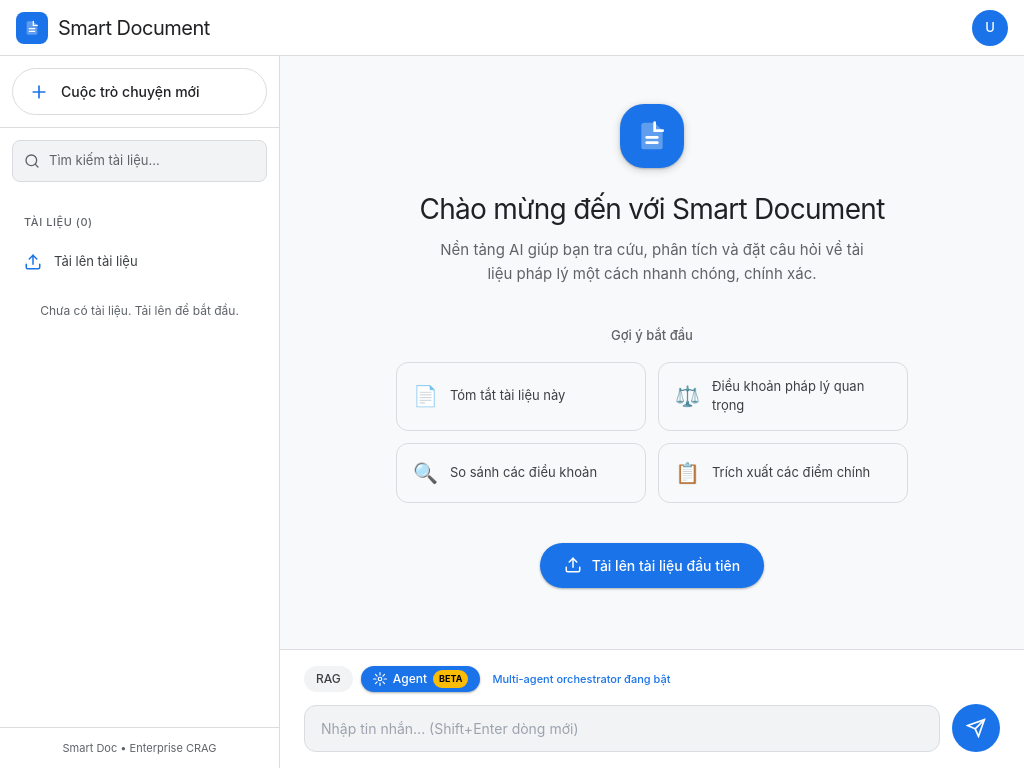
ChatPage › streams an SSE response and renders the final assistant message
Expected: the heading "Chào mừng đến với Smart Document" is shown, x1=419 y1=188 x2=885 y2=230
Type "What is the refund policy?" into the text box with placeholder "Nhập tin nhắn... (Shift+Enter dòng mới)".
click(622, 728); type("What is the refund policy?")  # box x1=304 y1=705 x2=940 y2=752
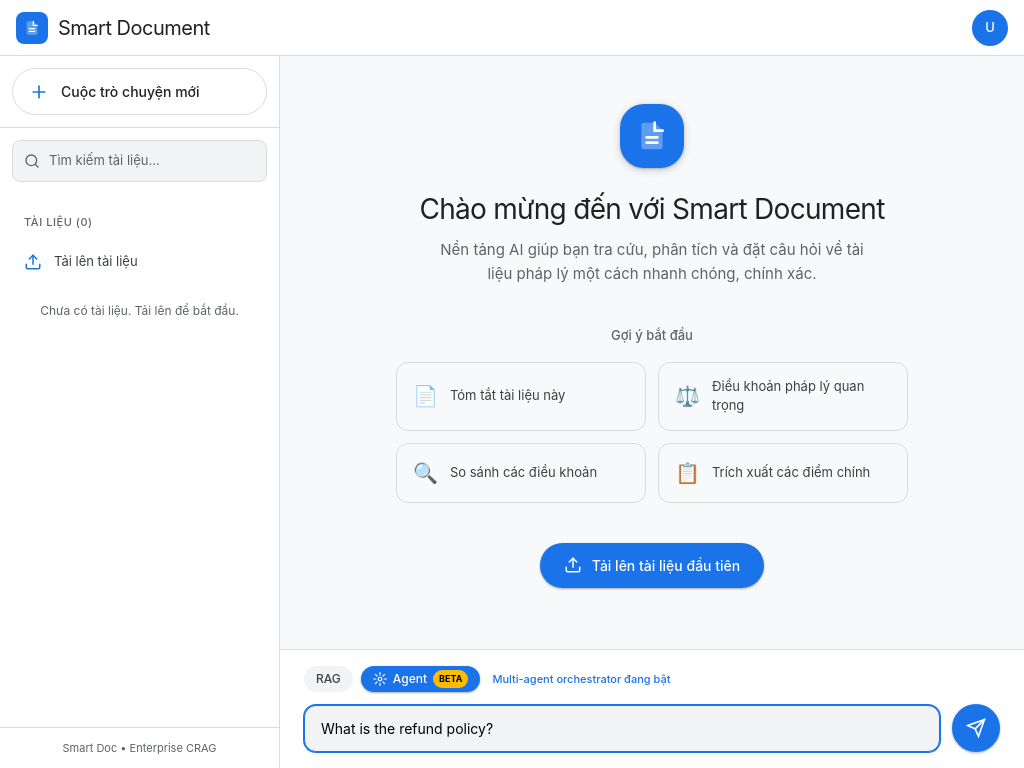
Press Enter
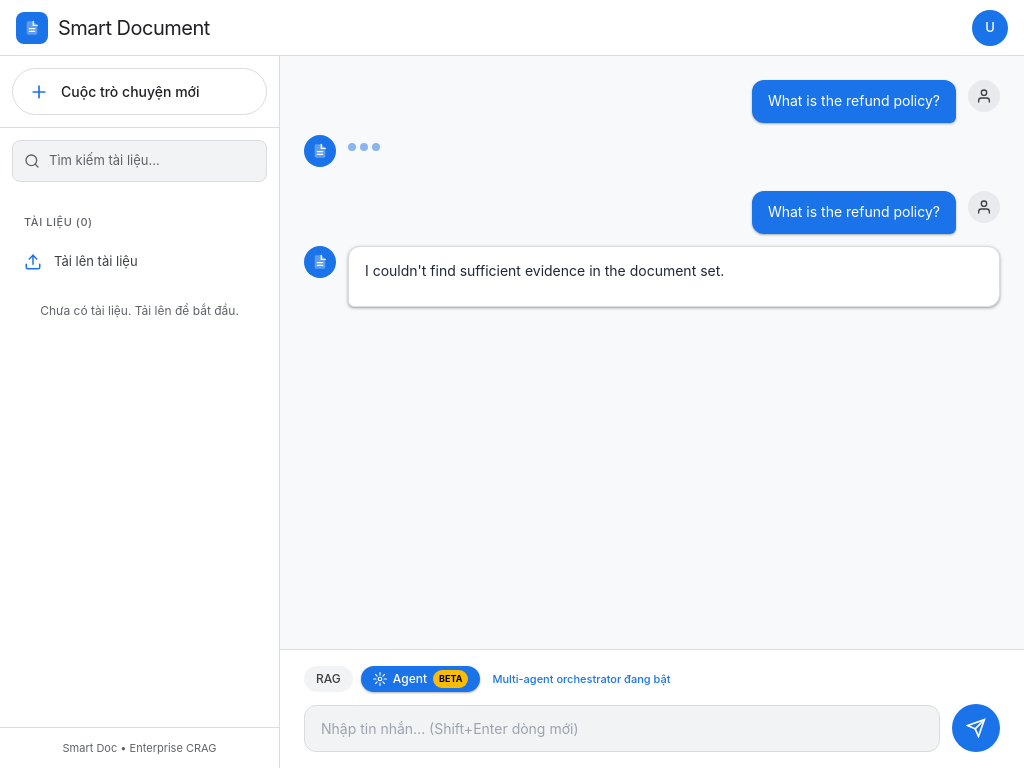
Expected: the text "I couldn't find sufficient evidence in the document set." is shown, x1=365 y1=262 x2=724 y2=278
